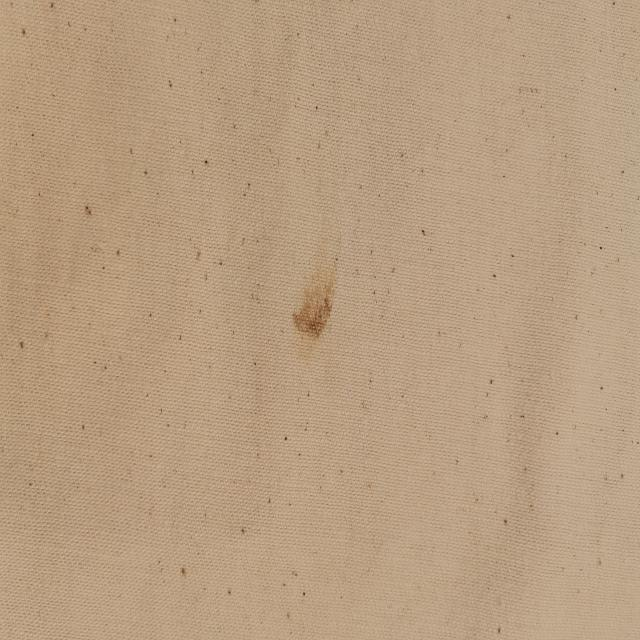taaaches: (291, 255, 338, 352)
